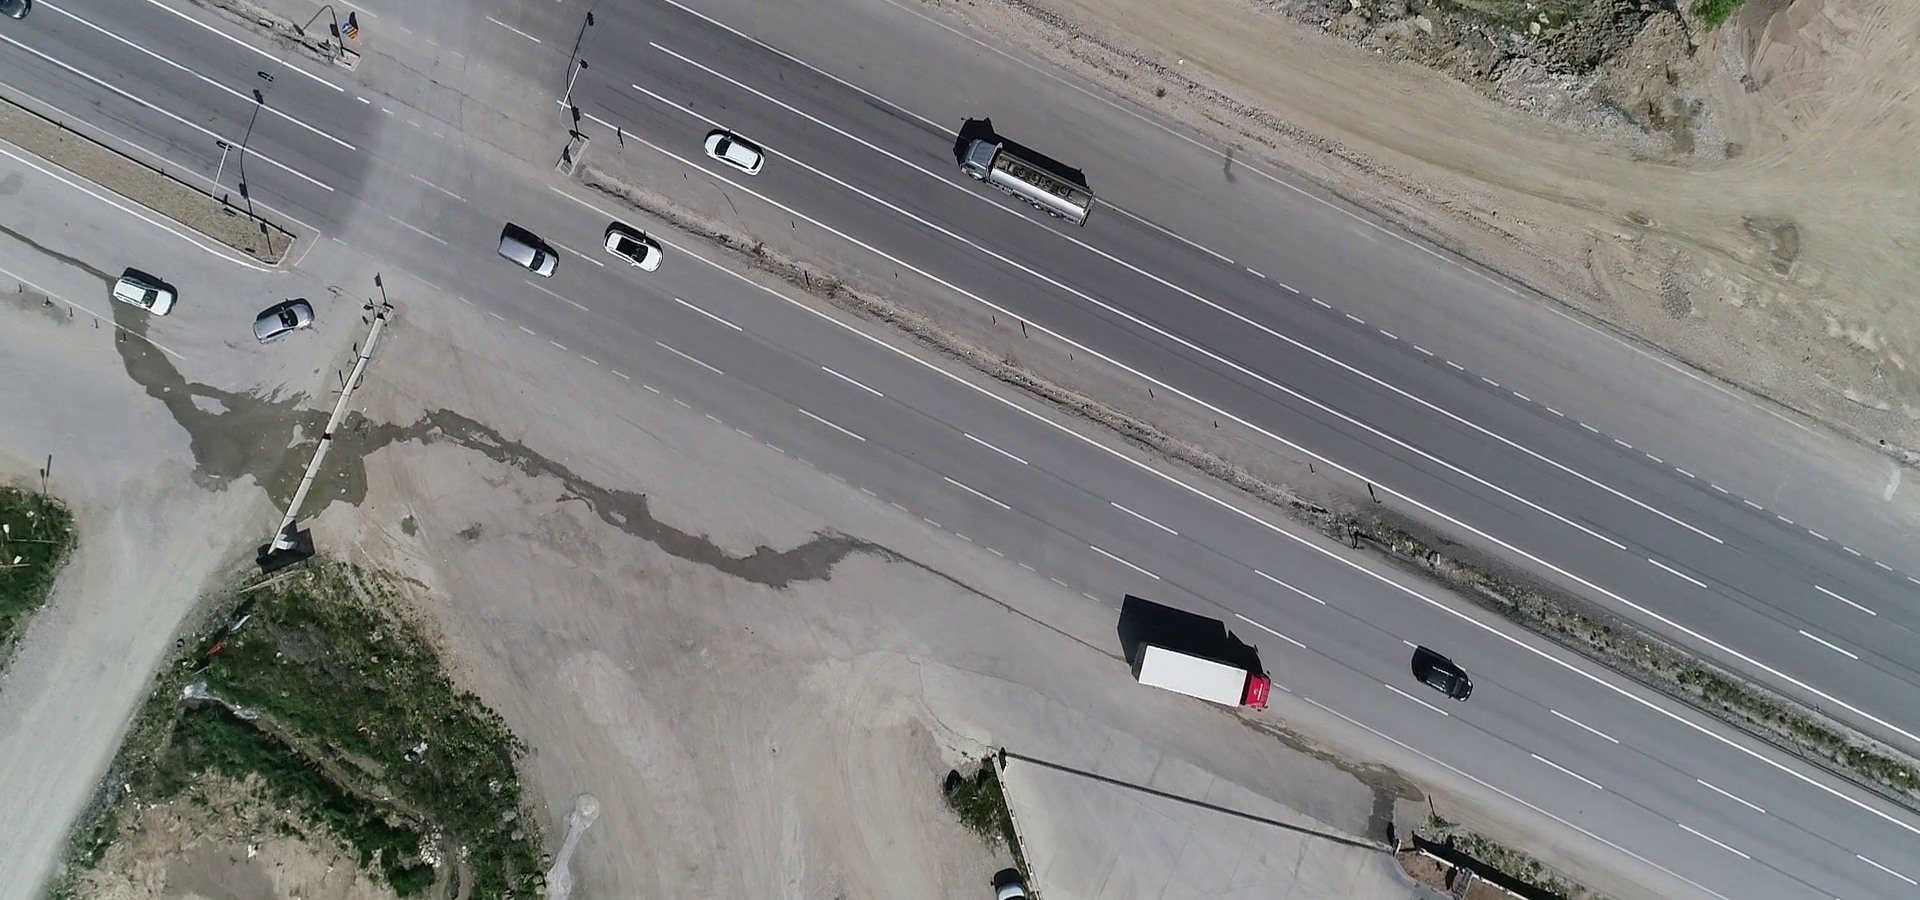arac: (1119, 629, 1282, 722), (960, 129, 1100, 229), (594, 219, 671, 280), (498, 220, 562, 288), (698, 122, 771, 179), (110, 269, 180, 320), (250, 294, 320, 344), (1414, 654, 1482, 704)
